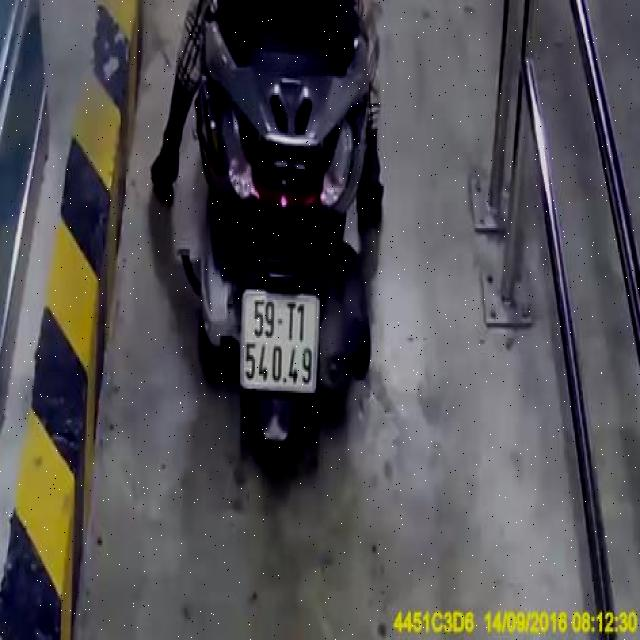0: (270, 343, 283, 385)
1: (297, 300, 305, 344)
4: (258, 342, 270, 382), (287, 346, 299, 384)
5: (244, 338, 258, 382), (253, 297, 264, 340)
9: (263, 296, 274, 340), (301, 346, 313, 385)
T: (283, 298, 296, 341)
